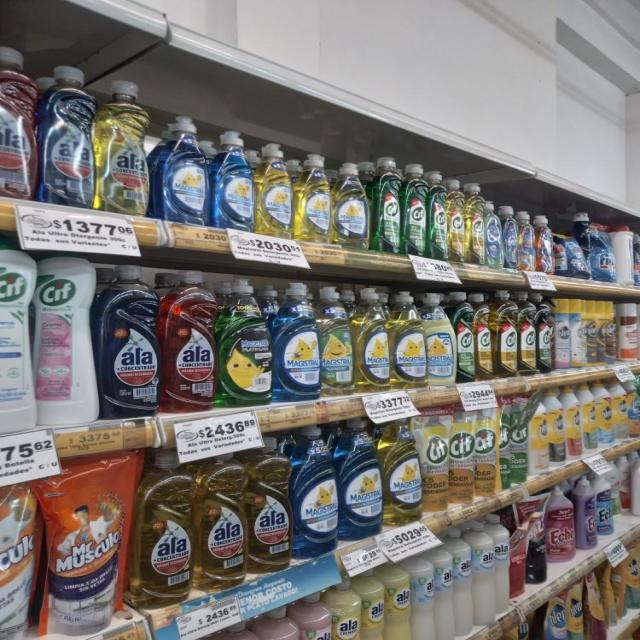ala_conc_amarillo: (134, 448, 194, 606), (96, 78, 150, 214), (196, 448, 246, 589), (248, 437, 291, 574)
ala_conc_azul: (99, 262, 160, 417), (39, 63, 94, 207)
ala_conc_rojo: (162, 269, 217, 413), (0, 45, 36, 198)
ala_crem_amarillo: (385, 558, 411, 640), (333, 578, 361, 640), (360, 568, 384, 640)
ala_crem_blanco: (474, 518, 495, 629), (454, 526, 473, 636), (412, 549, 434, 640), (434, 535, 453, 640), (495, 517, 510, 613)
ala_crem_rosado: (301, 592, 333, 640), (264, 606, 302, 640), (228, 621, 264, 640)
cif_conc_bot_amarilla: (494, 291, 517, 378), (456, 292, 474, 382), (475, 292, 493, 381), (466, 182, 485, 265), (448, 178, 466, 264), (518, 292, 536, 376)
cif_conc_botella_verde: (373, 156, 402, 255), (402, 162, 427, 258), (428, 170, 447, 260), (537, 293, 553, 373)
cif_conc_sachet_amarillo: (421, 410, 449, 515), (449, 406, 474, 506), (474, 404, 498, 498)
cif_conc_sachet_verde: (509, 396, 528, 486), (498, 397, 510, 491)
magistral_con_amarillo: (384, 418, 421, 526), (354, 286, 390, 392), (320, 284, 354, 396), (257, 141, 293, 237), (295, 152, 332, 244), (391, 290, 425, 388), (333, 160, 370, 250)
magistral_con_azul: (293, 426, 338, 560), (157, 115, 210, 224), (274, 281, 319, 401), (340, 420, 382, 541), (213, 129, 255, 231)
magistral_con_crema: (424, 293, 458, 386)
magistral_con_verde: (222, 275, 275, 406)
zorro: (485, 199, 502, 268)
